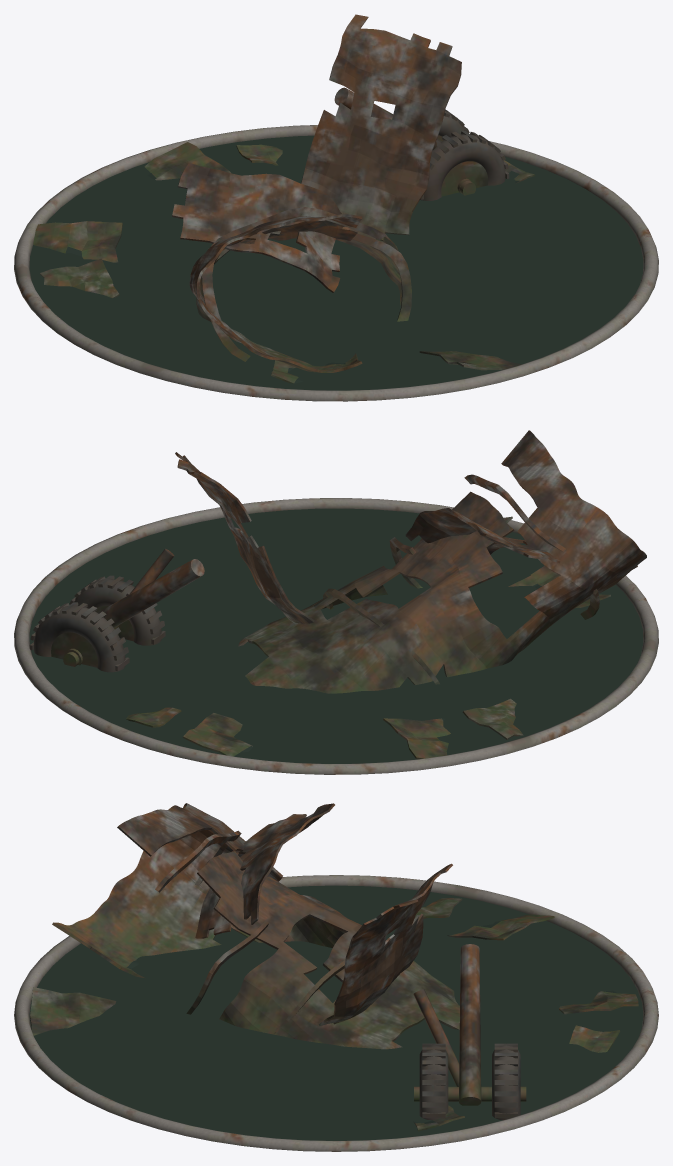
File: b52_wreck.glb
3 views of the same model, one above another, from view 1: azimuth 30°, elevation 25°; view 2: azimuth 150°, elevation 25°; view 3: azimuth 270°, elevation 25° (orthographic).
Parts seen in each view (by area): view 1: B52_baked; view 2: B52_baked; view 3: B52_baked.
Boxes of the visible parts, x1,y1,x2,y2 form: B52_baked: (14,14,658,401); B52_baked: (14,430,658,774); B52_baked: (14,803,658,1151).
Bounding box in the file's own units: 7.48 × 2.43 × 7.48.
2 materials, 1 textured.
